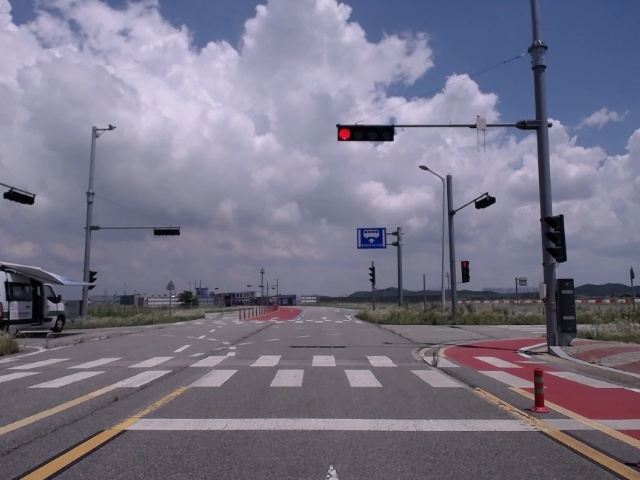red_4: (337, 127, 394, 141)
